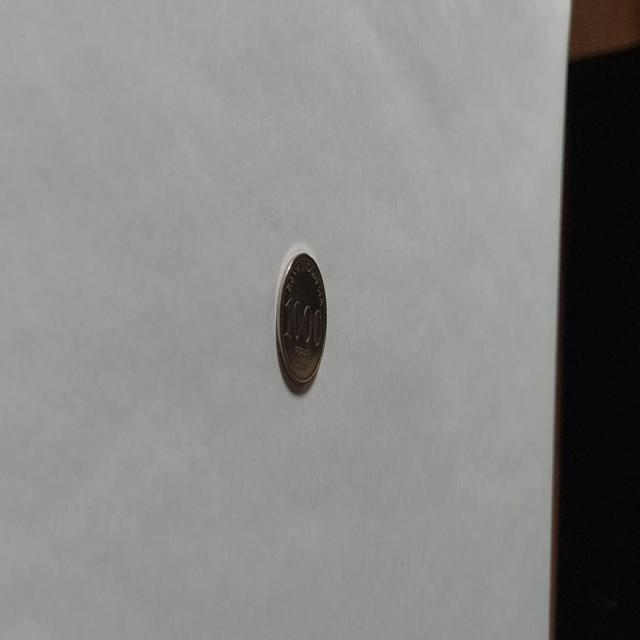seribu rupiah koin: (274, 247, 328, 395)
